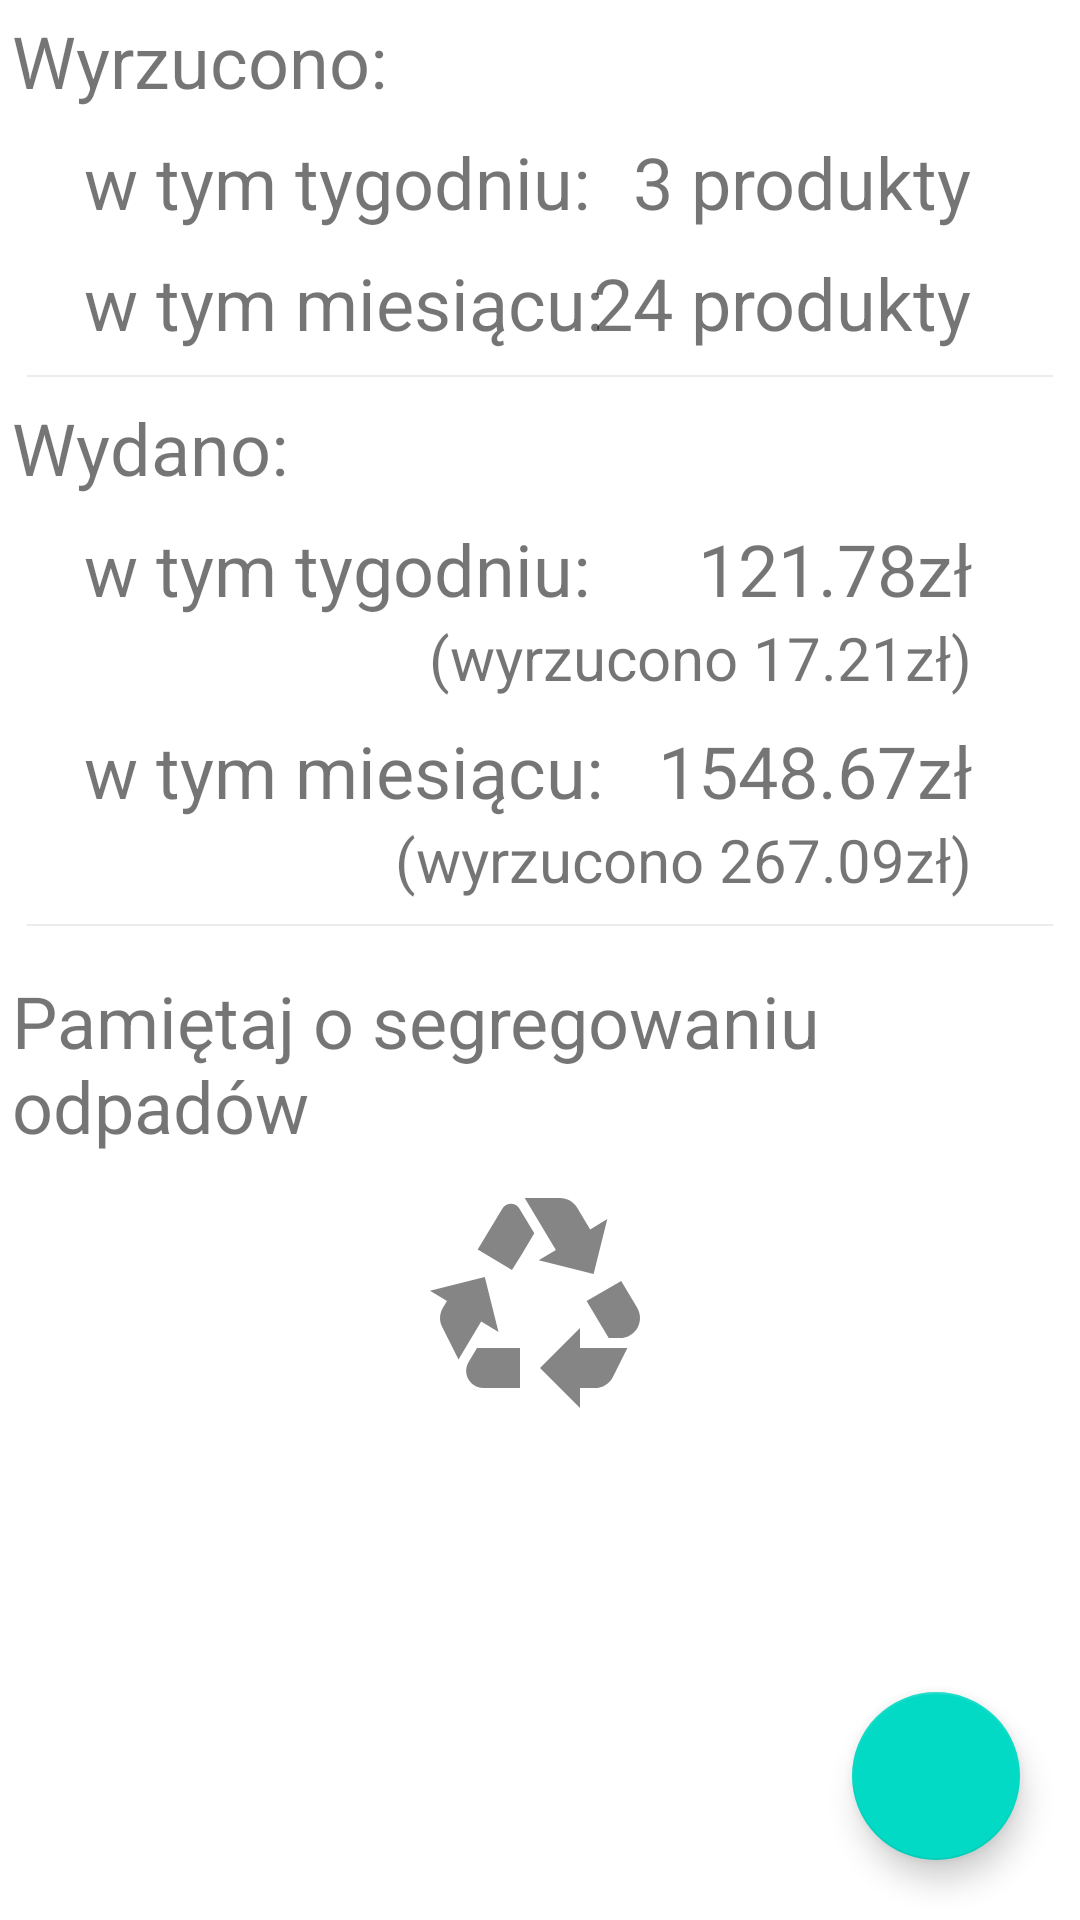

Where icons sit on this 1080*1920 app screen, as (x1, y1, x2, y2):
recycling: (430, 1198, 640, 1408)
